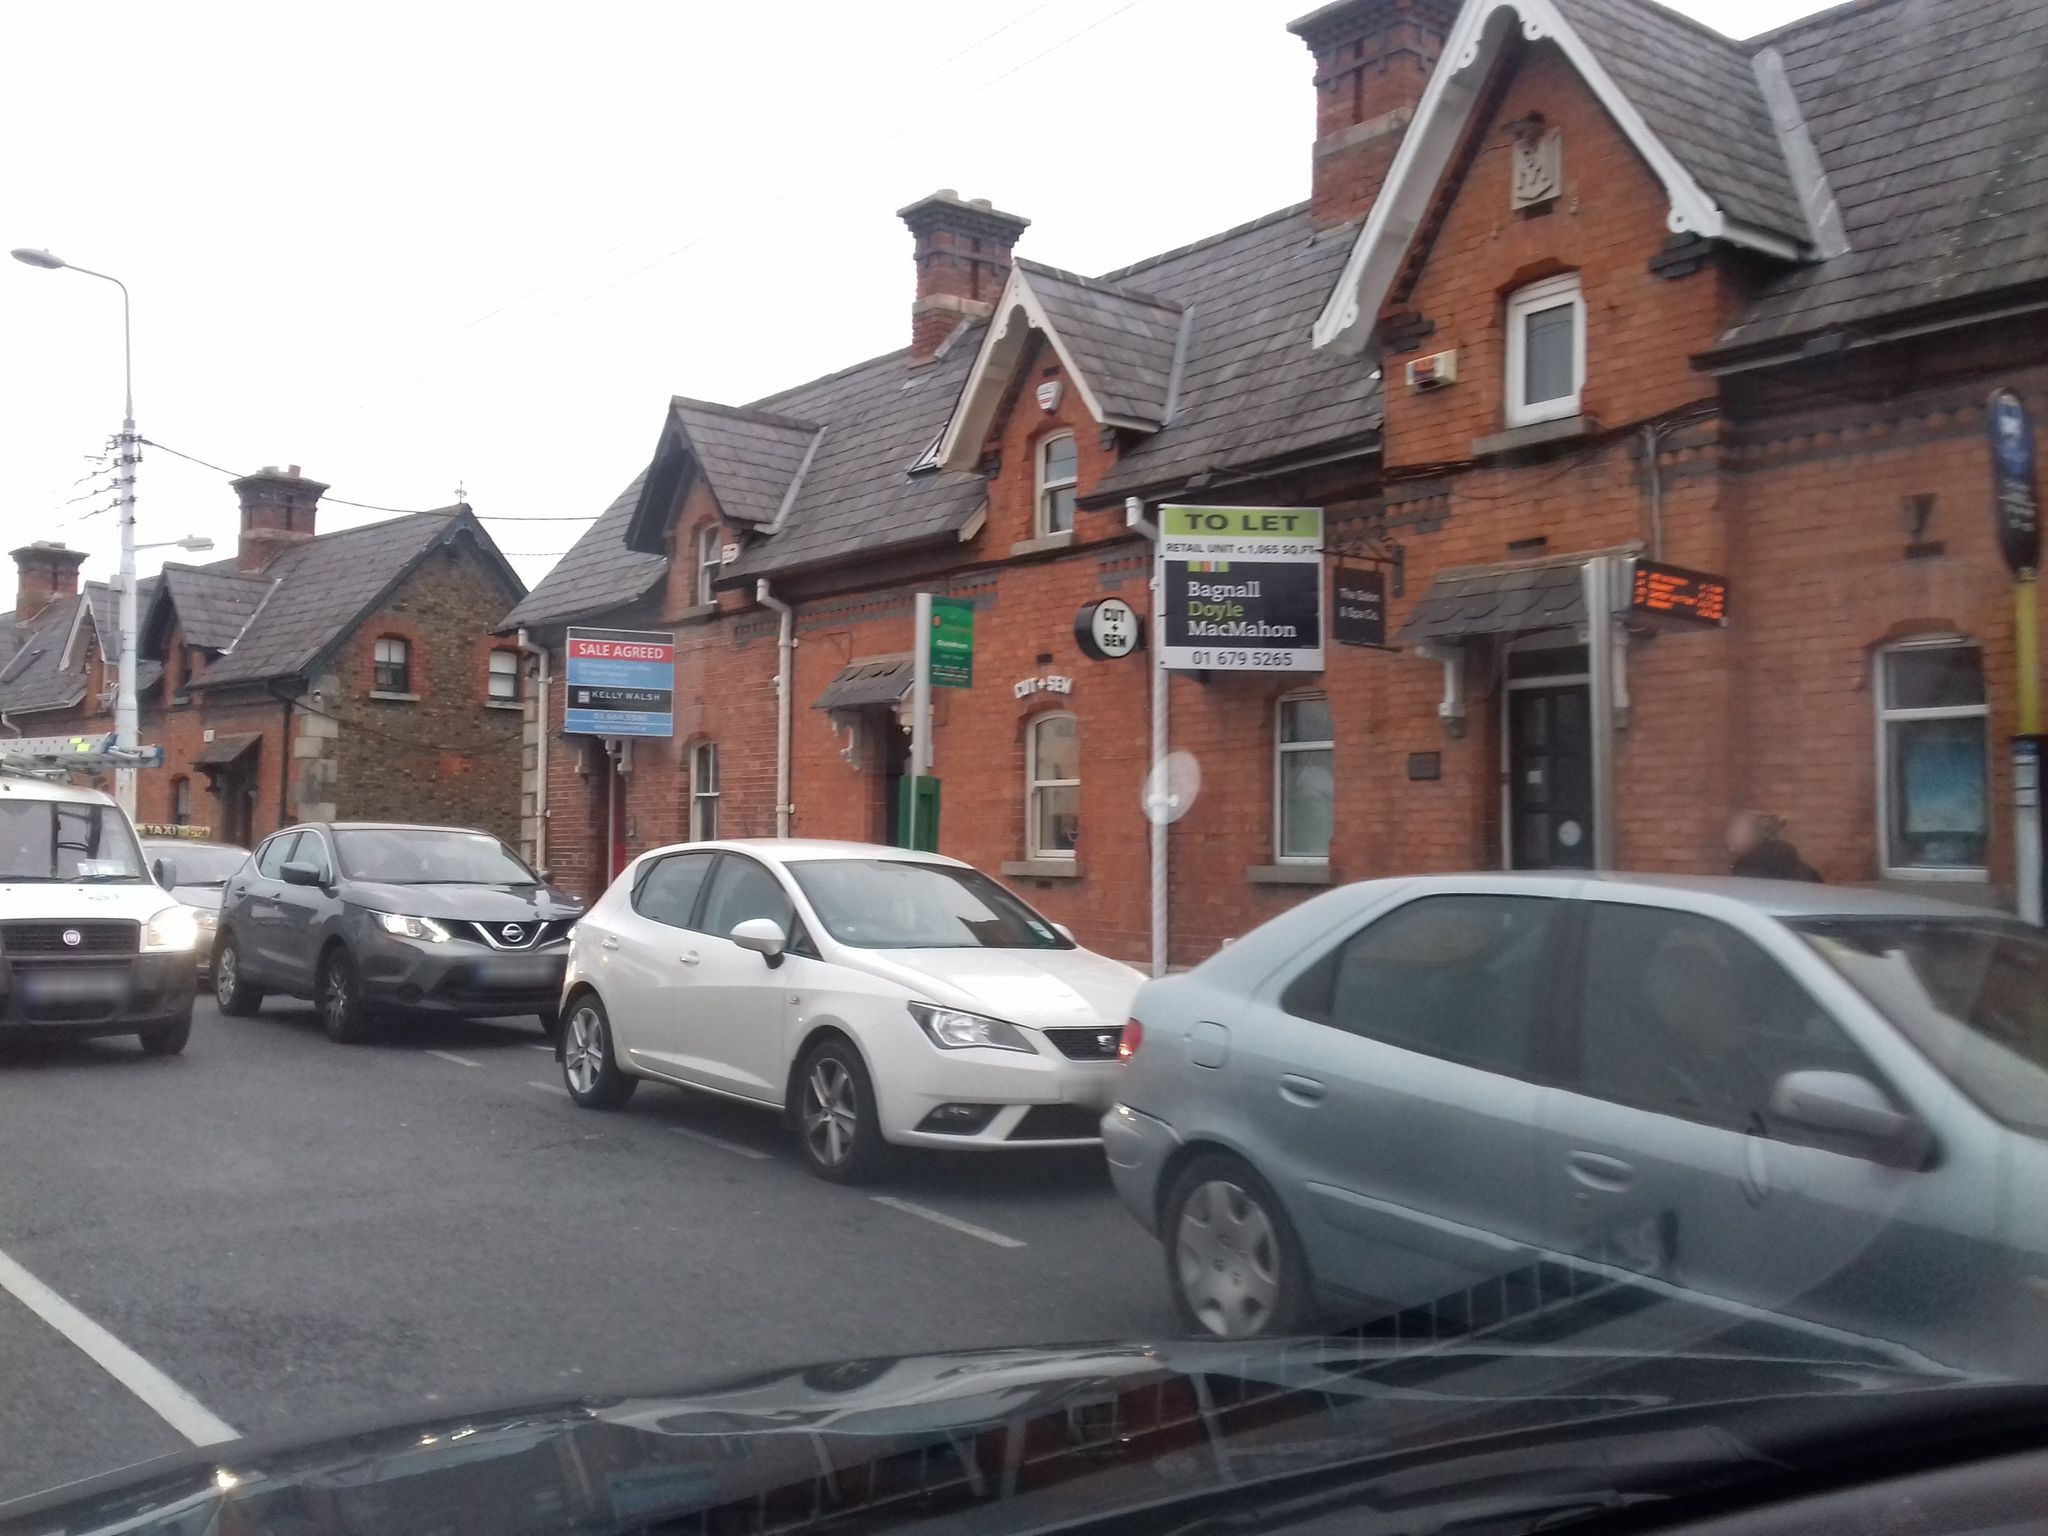property sign: (1135, 481, 1343, 694), (539, 603, 698, 749)
